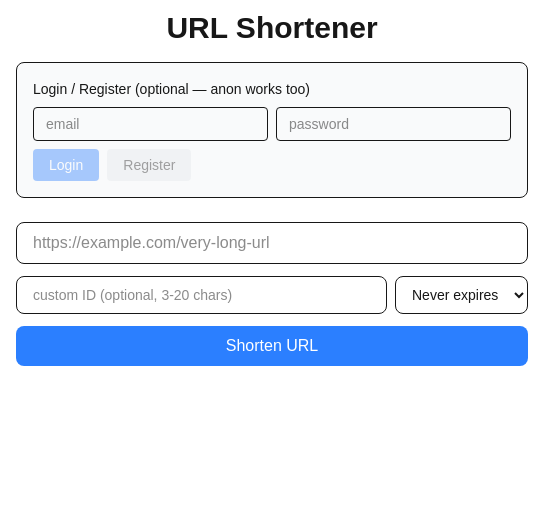
Test case: Home Page › displays shortened URL after successful submission
Type "https://example.com" into the field with placeholder "https://example.com/very-long-url" at (272, 243), box [16,222,528,264]
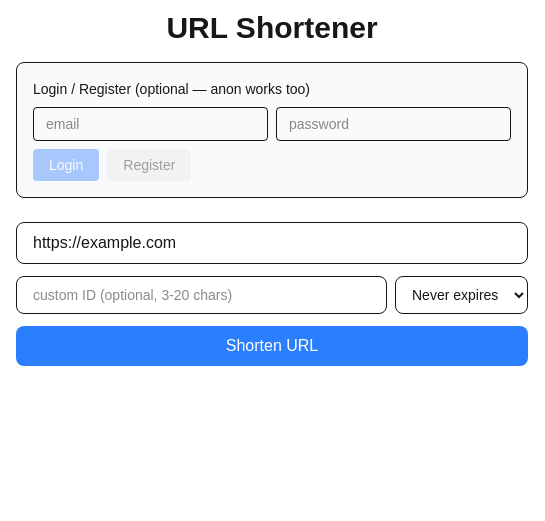
Submit the form with placeholder "https://example.com/very-long-url", box [16,222,528,366]
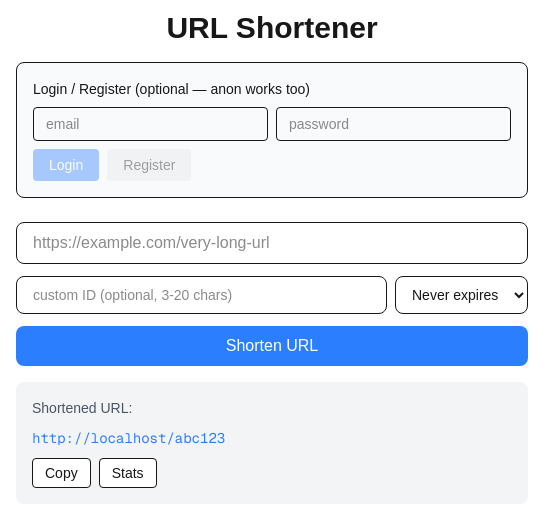
Expected: the text "Shortened URL:" is shown, [32,400,132,416]
Expected: the link "http://localhost/abc123" is shown, [32,429,225,447]
